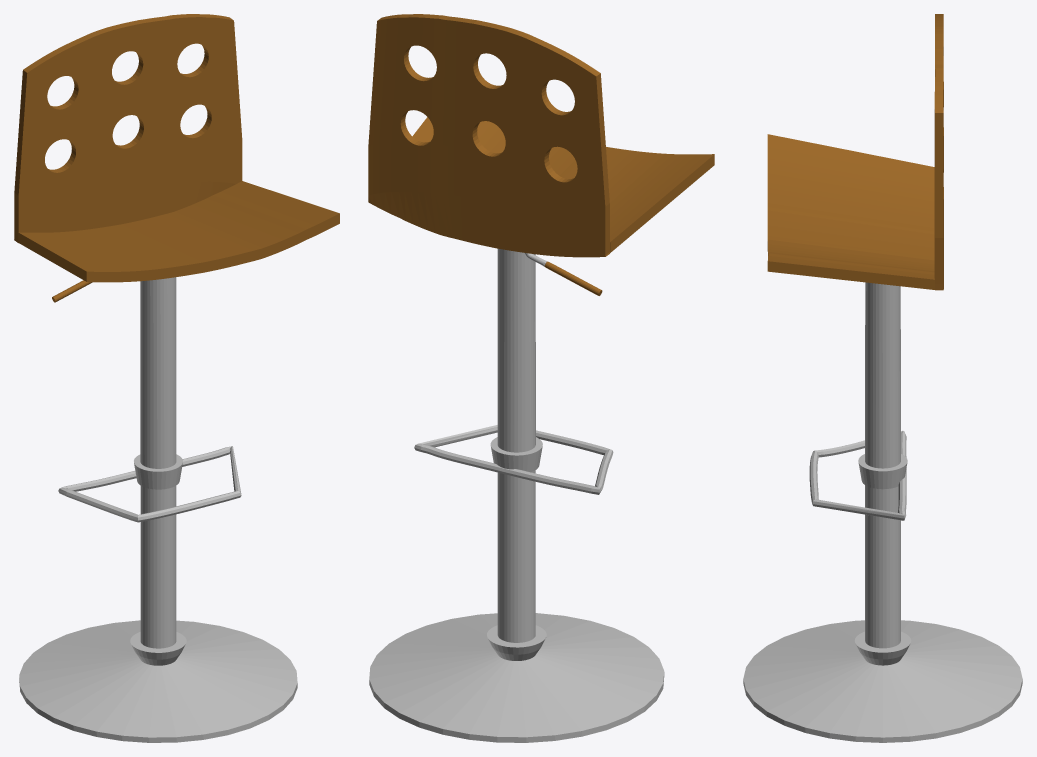
The model's file is silla2.obj.
3 renders of one model, left to right at view 1: azimuth 30°, elevation 25°; view 2: azimuth 150°, elevation 25°; view 3: azimuth 270°, elevation 25°, orthographic. The views are drawn at different scales.
Visible parts, largest first — view 1: 3_Cylinder, silla_Mesh.003, silla.001_Mesh.004, BezierCurve; view 2: silla_Mesh.003, 3_Cylinder, silla.001_Mesh.004, BezierCurve, BezierCurve.001_Mesh.005; view 3: 3_Cylinder, silla.001_Mesh.004, silla_Mesh.003, BezierCurve.
Boxes of the visible parts, bbox=[...] form: 3_Cylinder: bbox=[19, 277, 297, 742]; silla_Mesh.003: bbox=[14, 14, 242, 243]; silla.001_Mesh.004: bbox=[18, 181, 339, 282]; BezierCurve: bbox=[58, 446, 241, 522]; silla_Mesh.003: bbox=[368, 14, 609, 257]; 3_Cylinder: bbox=[369, 248, 664, 742]; silla.001_Mesh.004: bbox=[412, 117, 714, 252]; BezierCurve: bbox=[414, 425, 613, 494]; BezierCurve.001_Mesh.005: bbox=[525, 253, 602, 295]; 3_Cylinder: bbox=[743, 282, 1022, 742]; silla.001_Mesh.004: bbox=[767, 134, 934, 289]; silla_Mesh.003: bbox=[934, 14, 943, 290]; BezierCurve: bbox=[809, 430, 906, 520].
Bounding box in the file's own units: 32.63 × 78.84 × 31.14.
